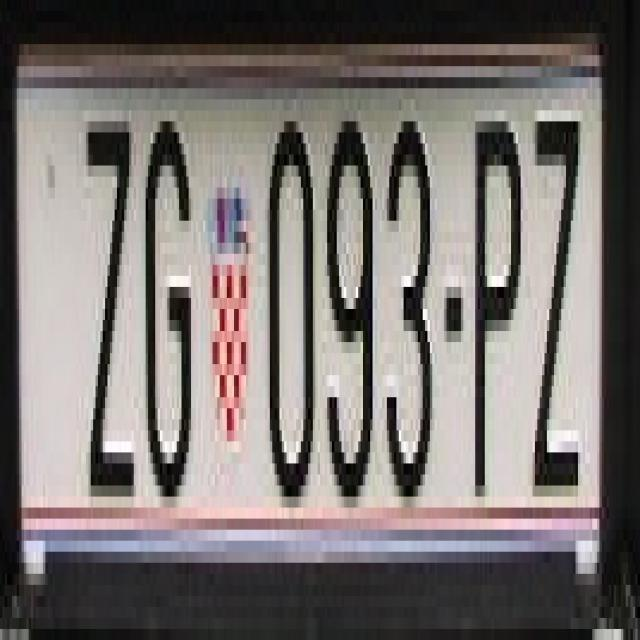0: (262, 99, 318, 508)
3: (384, 99, 432, 508)
9: (320, 110, 370, 508)
G: (144, 110, 194, 486)
P: (468, 88, 521, 486)
Z: (81, 88, 136, 486), (532, 88, 582, 486)
